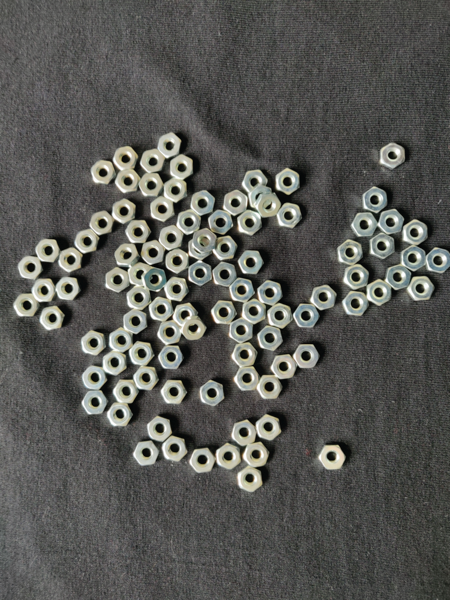nut: (407, 276, 436, 302), (385, 264, 412, 291), (343, 264, 370, 291), (337, 240, 364, 267), (369, 233, 396, 260), (362, 186, 388, 214), (380, 142, 406, 170), (243, 443, 270, 469), (133, 441, 160, 467), (232, 420, 258, 447), (256, 414, 282, 441), (271, 354, 298, 380), (401, 245, 427, 272), (378, 209, 405, 235), (190, 190, 216, 217), (223, 190, 249, 217), (254, 193, 281, 219), (319, 446, 347, 471), (162, 436, 188, 462), (147, 417, 173, 443), (268, 303, 294, 329), (403, 220, 429, 246), (258, 280, 284, 306), (89, 210, 115, 236), (74, 229, 100, 255), (140, 148, 166, 174), (238, 466, 263, 493), (200, 380, 225, 407), (232, 343, 259, 368), (311, 285, 338, 310), (367, 279, 392, 306), (351, 213, 378, 238), (150, 196, 175, 223), (158, 132, 183, 159), (426, 247, 450, 275), (276, 168, 300, 196), (217, 444, 242, 470), (190, 449, 216, 474), (82, 365, 108, 390), (81, 331, 107, 356), (149, 297, 174, 323), (212, 262, 238, 287), (164, 277, 190, 302), (141, 267, 167, 292), (58, 247, 83, 273), (159, 225, 184, 251), (213, 236, 239, 261), (177, 209, 202, 235), (277, 203, 302, 229), (138, 173, 164, 198), (113, 146, 139, 171), (293, 345, 320, 369), (234, 367, 261, 391), (161, 381, 188, 405), (82, 391, 109, 415), (113, 380, 140, 404), (293, 304, 320, 328), (343, 292, 370, 316), (158, 346, 185, 370), (109, 327, 133, 354), (230, 317, 254, 344), (180, 317, 207, 341), (112, 198, 136, 225), (193, 228, 217, 255), (164, 177, 188, 204), (258, 326, 283, 351), (129, 341, 154, 366), (230, 278, 255, 303), (127, 286, 152, 311), (18, 256, 43, 281), (40, 306, 65, 331), (209, 210, 234, 235), (257, 375, 283, 399), (108, 403, 134, 427), (133, 367, 159, 391), (103, 350, 127, 376), (124, 309, 148, 335), (238, 251, 264, 275), (105, 268, 129, 294), (125, 220, 151, 244), (35, 239, 61, 263), (141, 240, 165, 266), (238, 210, 262, 236), (248, 183, 272, 209), (115, 169, 141, 193), (170, 155, 194, 181), (189, 260, 212, 287), (212, 301, 237, 325), (158, 320, 182, 345), (173, 303, 198, 327), (115, 244, 140, 268), (56, 277, 81, 301), (91, 161, 116, 185), (243, 299, 266, 325), (14, 294, 40, 317), (166, 249, 189, 275), (242, 171, 269, 193), (128, 263, 152, 287), (32, 279, 56, 303), (189, 238, 213, 261)
